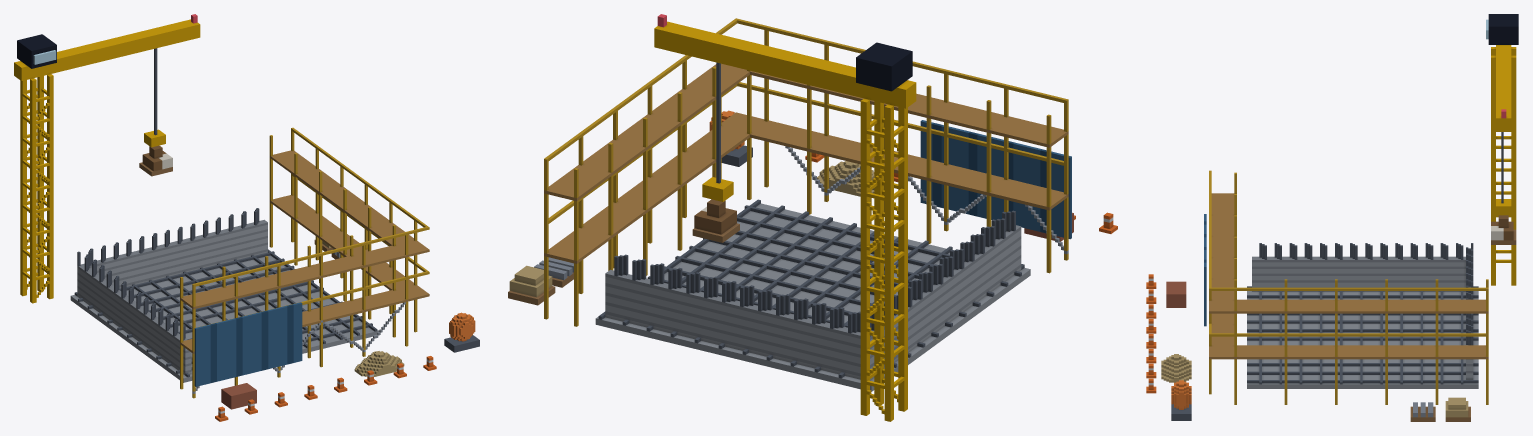
File: antenna_scaffold.glb
3 renders of one model, left to right at view 1: azimuth 30°, elevation 25°; view 2: azimuth 150°, elevation 25°; view 3: azimuth 270°, elevation 25°, orthographic. The views are drawn at different scales.
Parts seen in each view (by area): view 1: Base; view 2: Base; view 3: Base.
Part boxes in pixels (x1,y1,x2,y2): Base: (14,14,479,421); Base: (508,14,1117,421); Base: (1146,14,1518,421).
Bounding box in the file's own units: 14.2 × 11.4 × 14.8.
